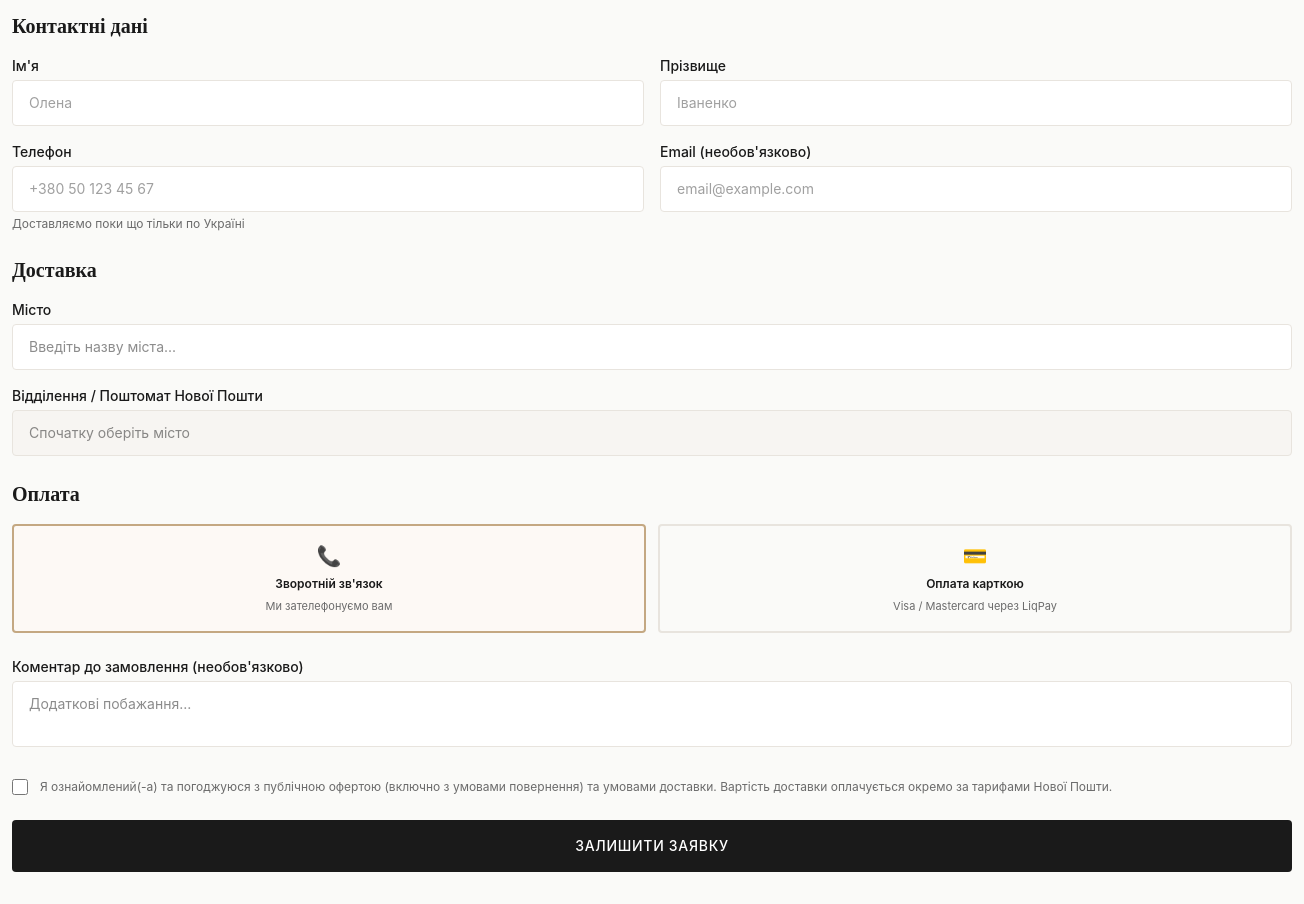
Scenario: OrderForm › без згоди з офертою замовлення не відправляється
Click the button "Залишити заявку". click: [652, 846]
box: [12,820,1292,872]
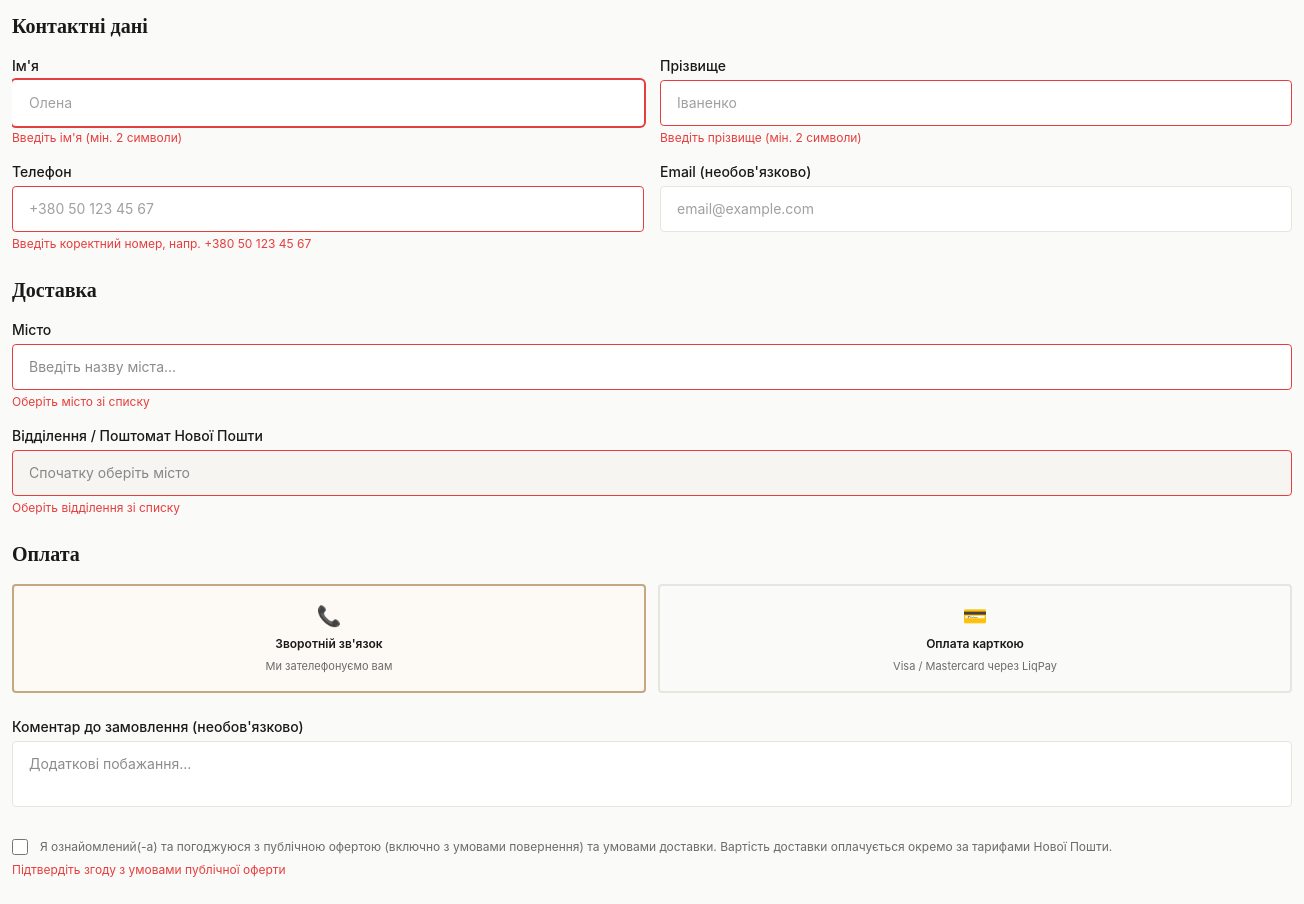
Result: the text "Підтвердіть згоду з умовами публічної оферти" is shown at [12,862,286,877]
